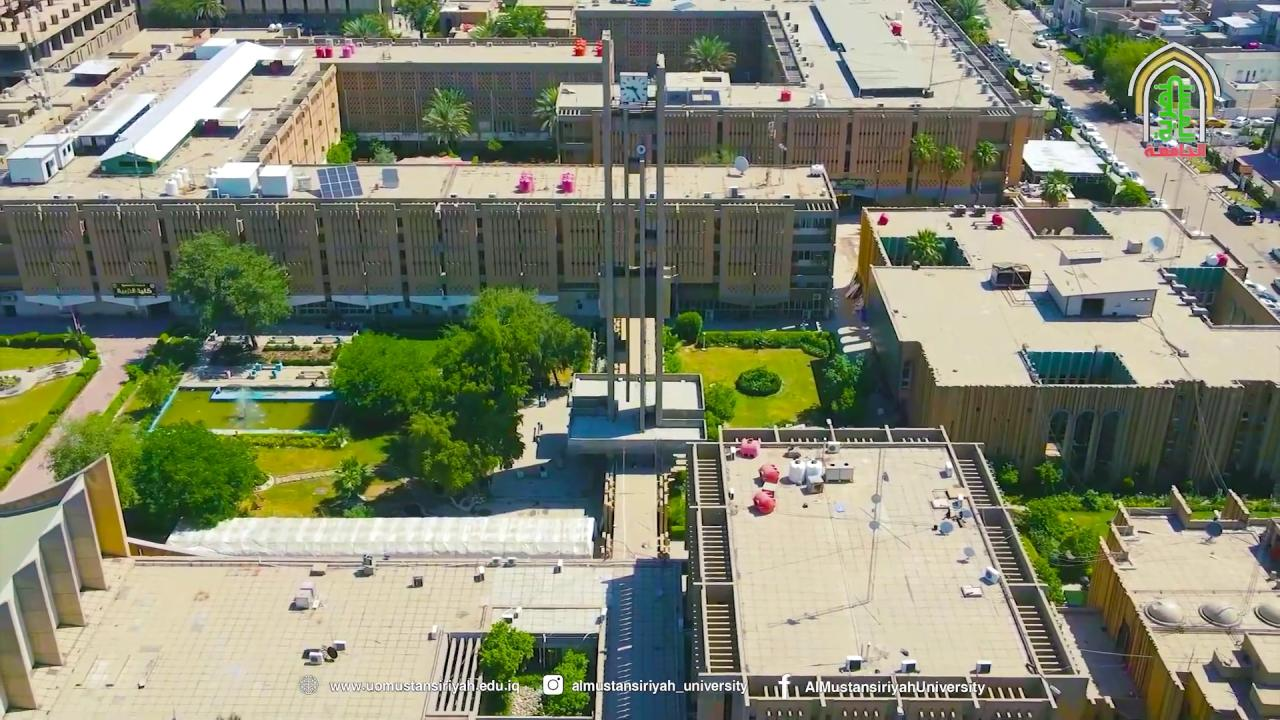car: (1224, 203, 1256, 224)
fountain: (147, 382, 346, 436)
person: (815, 82, 829, 108)
tree: (327, 283, 593, 496), (437, 284, 591, 403), (130, 416, 266, 531), (165, 226, 292, 349), (405, 388, 526, 495), (327, 329, 442, 417), (44, 409, 144, 510), (220, 244, 293, 348), (165, 227, 233, 332), (476, 619, 535, 713), (1101, 37, 1164, 118), (420, 85, 473, 157), (467, 3, 547, 45), (541, 648, 590, 715), (123, 357, 184, 410), (475, 72, 510, 149), (530, 82, 562, 163), (702, 380, 737, 440), (683, 33, 736, 72), (970, 139, 1000, 205), (393, 0, 439, 41), (1031, 555, 1067, 607), (1082, 31, 1119, 81), (907, 131, 936, 193), (936, 143, 964, 204), (331, 454, 368, 498), (822, 351, 865, 388), (340, 12, 387, 44), (904, 227, 943, 265), (506, 4, 548, 39), (735, 366, 782, 395), (1038, 168, 1072, 207), (664, 485, 686, 542), (660, 324, 683, 373), (1033, 458, 1063, 495), (1112, 176, 1149, 206), (324, 129, 356, 163), (672, 310, 702, 345), (959, 16, 990, 46), (190, 0, 226, 25), (367, 136, 397, 163), (949, 0, 985, 21), (326, 422, 351, 448), (588, 330, 603, 373), (996, 461, 1018, 486), (341, 504, 374, 518)
